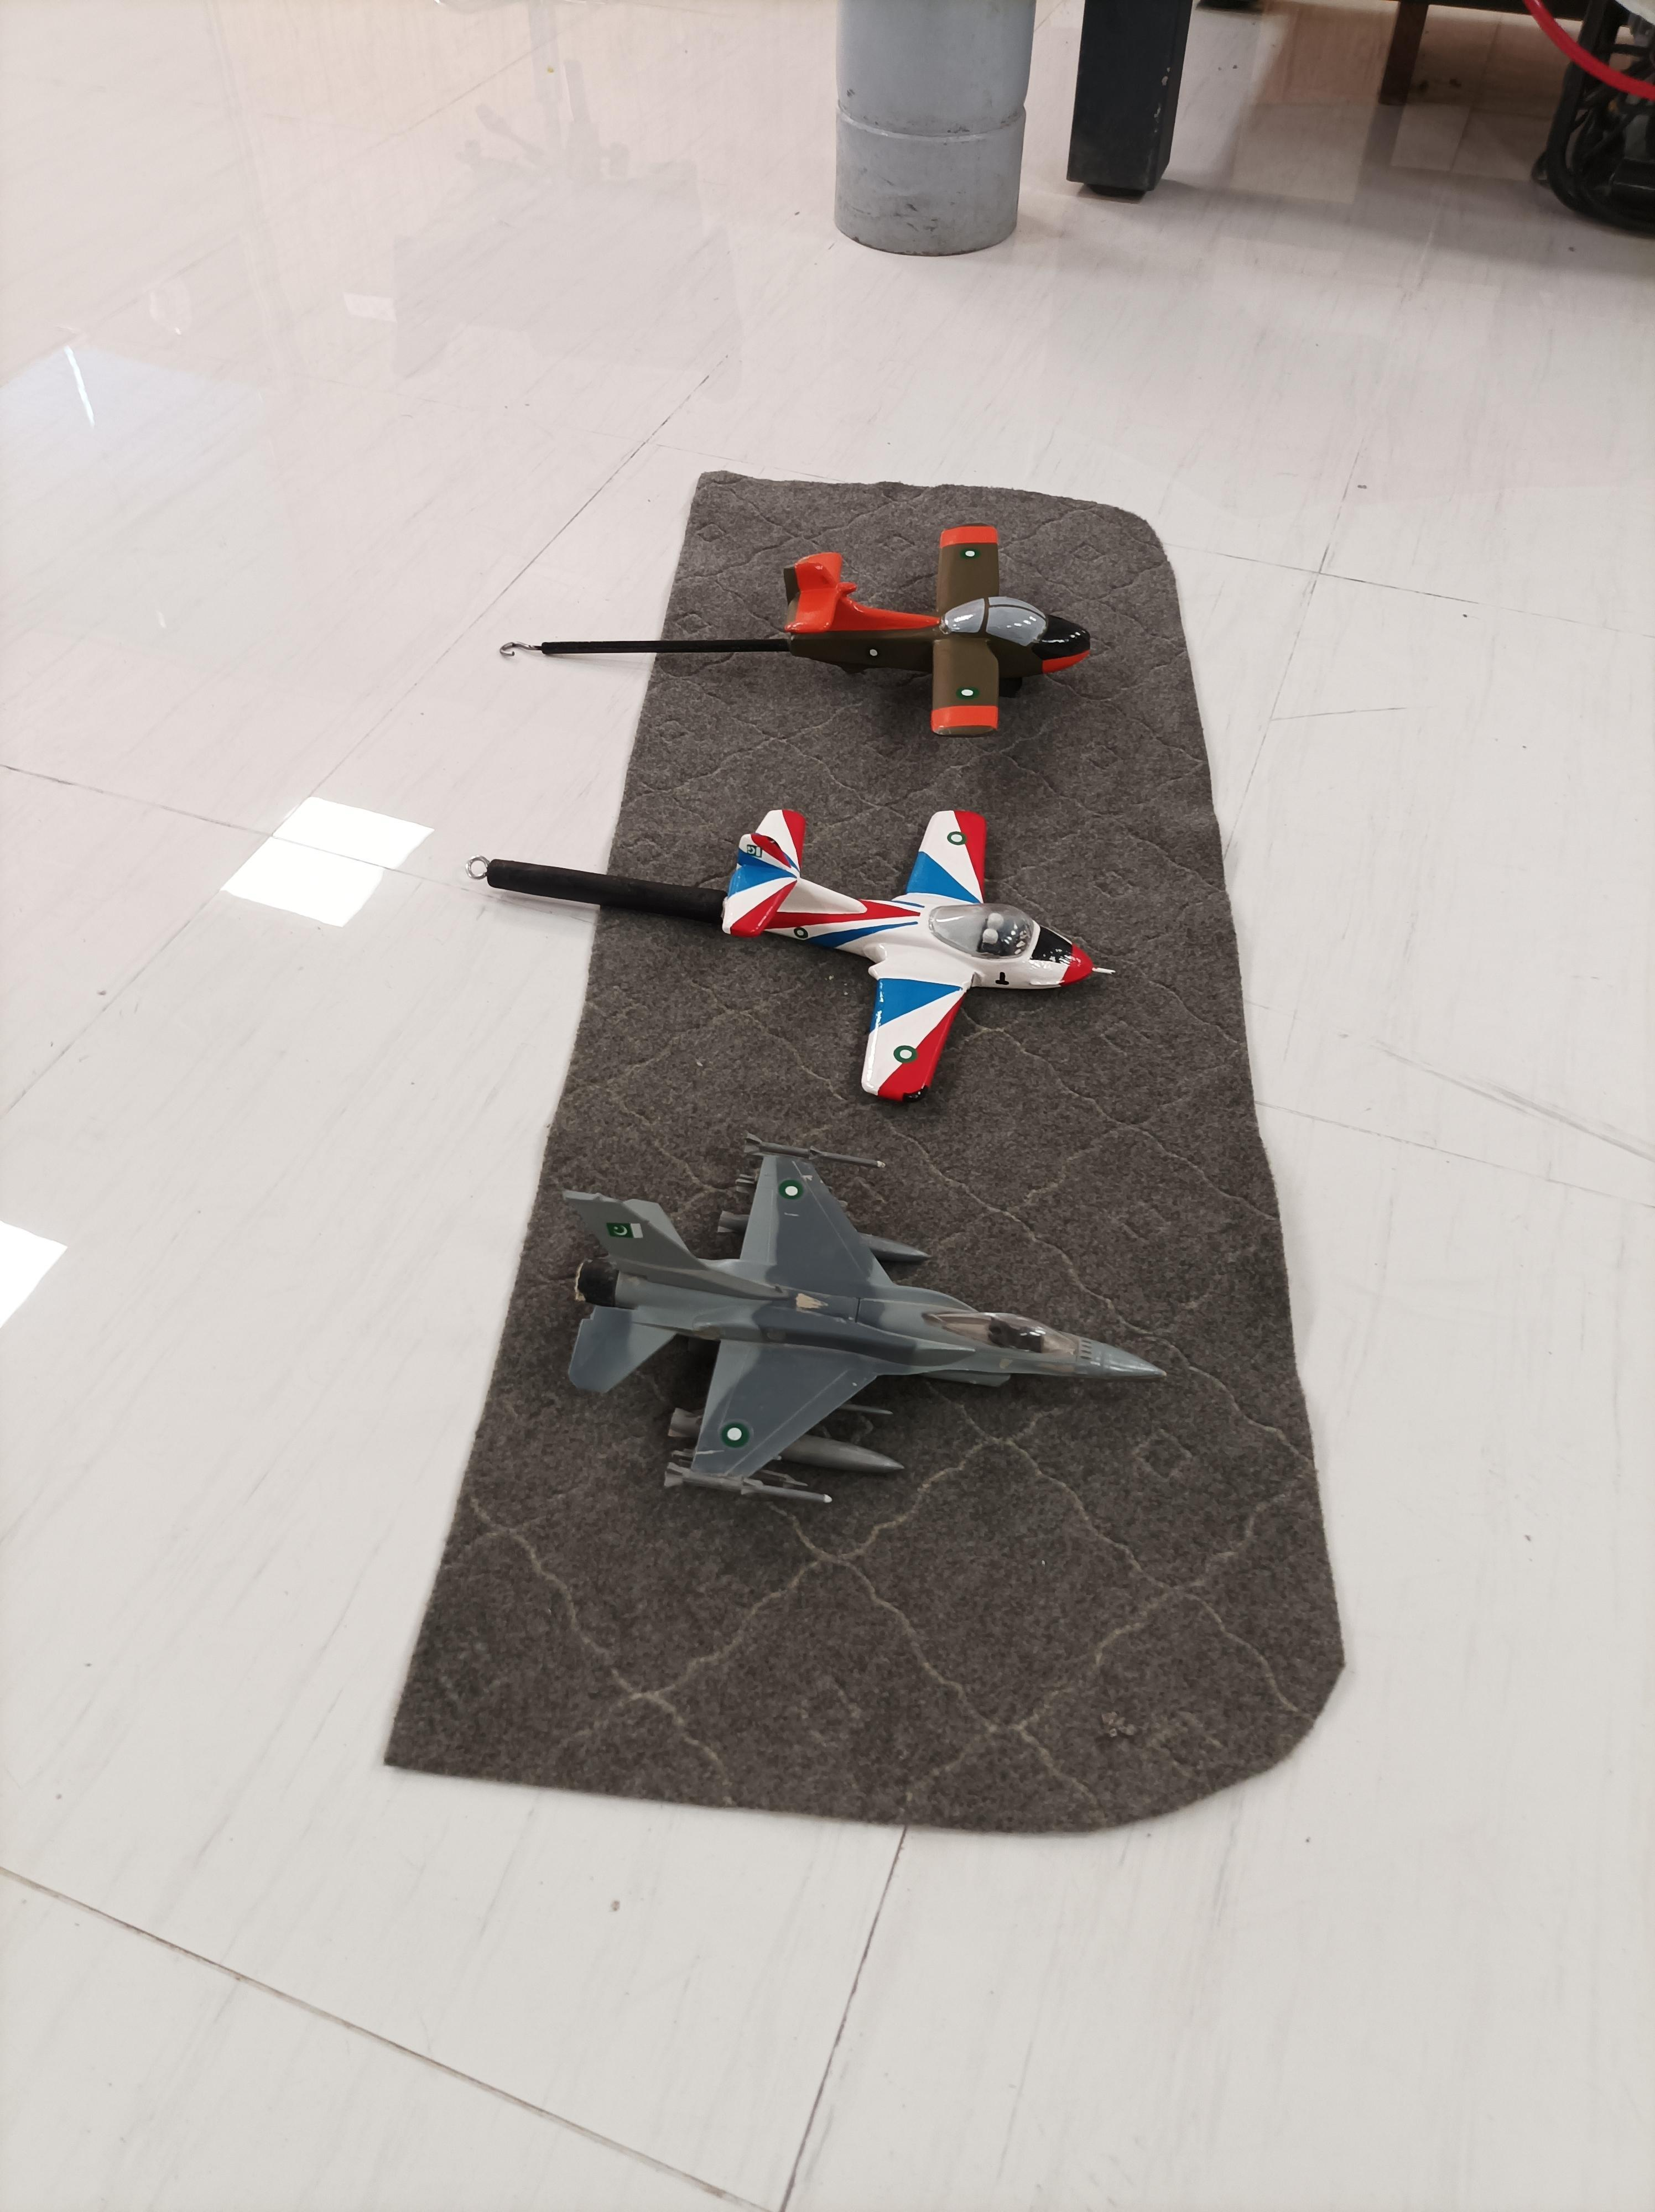Airplane: (553, 1114, 1179, 1519), (711, 785, 1132, 1117), (753, 514, 1109, 772)
